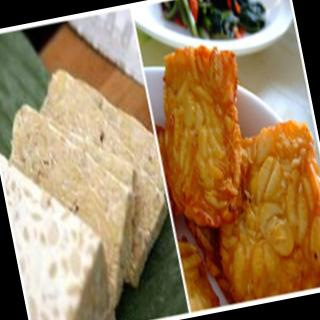Tempe: (1, 53, 188, 320)
